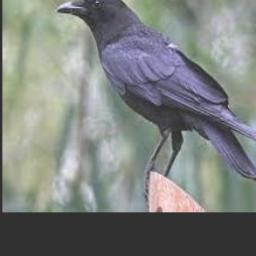Crow: (57, 0, 256, 201)
